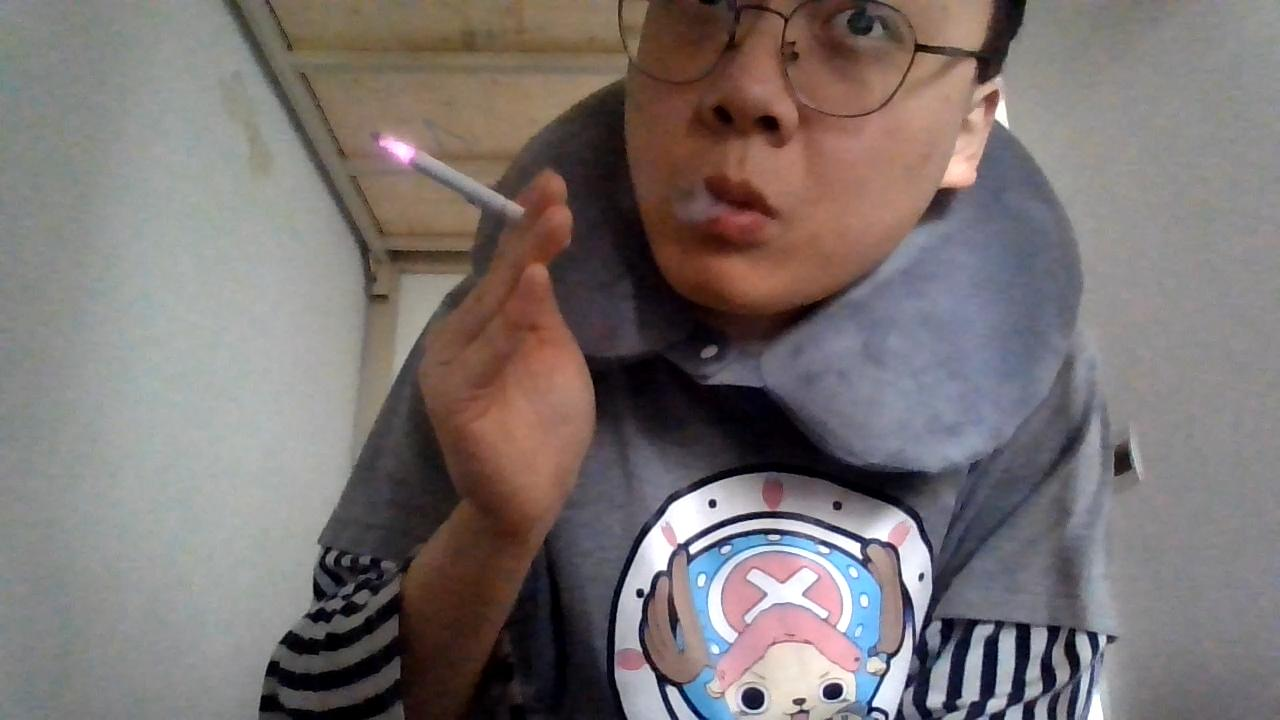yanwu: (670, 176, 716, 227)
